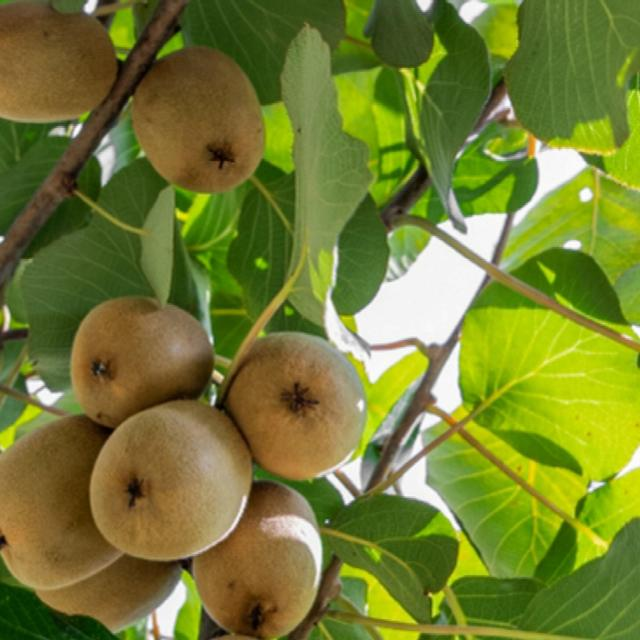kiwi: (84, 393, 263, 565), (1, 417, 140, 594), (182, 475, 330, 640), (126, 43, 276, 204), (225, 328, 374, 478), (66, 291, 223, 433), (1, 5, 125, 129), (23, 546, 189, 636)
